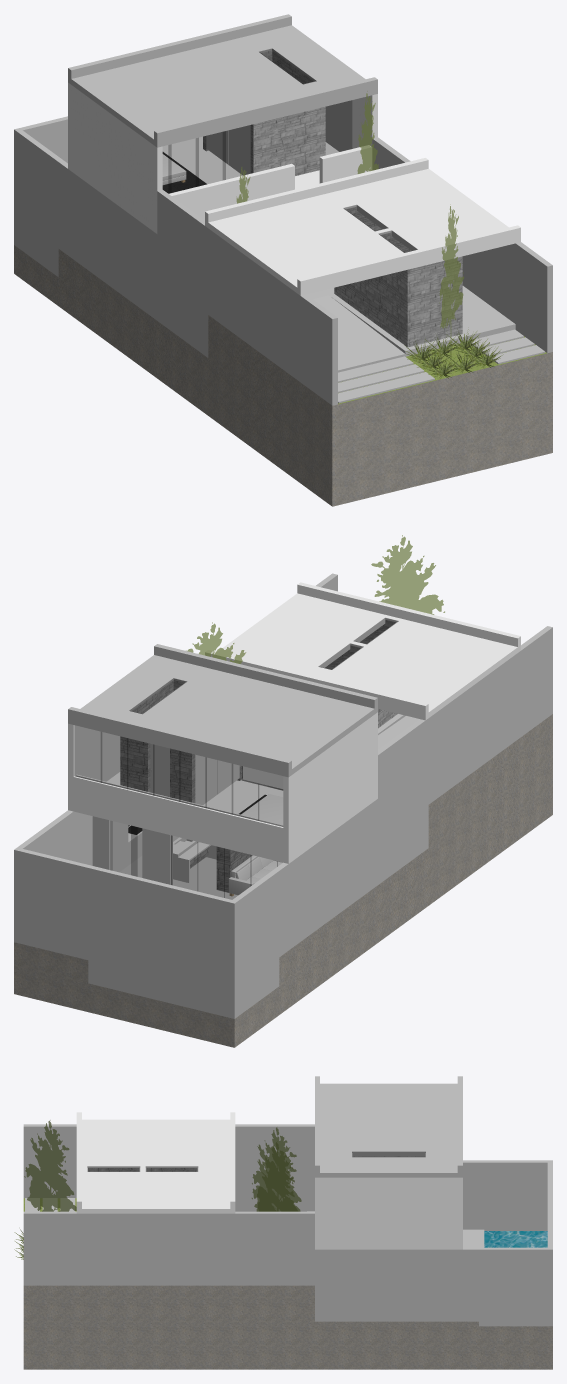
File: example.gltf
The picture shows the model from 3 angles, top to bottom: view 1: azimuth 30°, elevation 25°; view 2: azimuth 150°, elevation 25°; view 3: azimuth 270°, elevation 25°; orthographic projection. The views are drawn at different scales.
Parts seen in each view (by area): view 1: root; view 2: root; view 3: root.
Part boxes in pixels (x1,y1,x2,y2): root: (14, 14, 552, 506); root: (14, 535, 552, 1047); root: (14, 1076, 552, 1369).
Bounding box in the file's own units: 8 × 8.97 × 20.37.
Materials: 17 (9 with a texture image).
